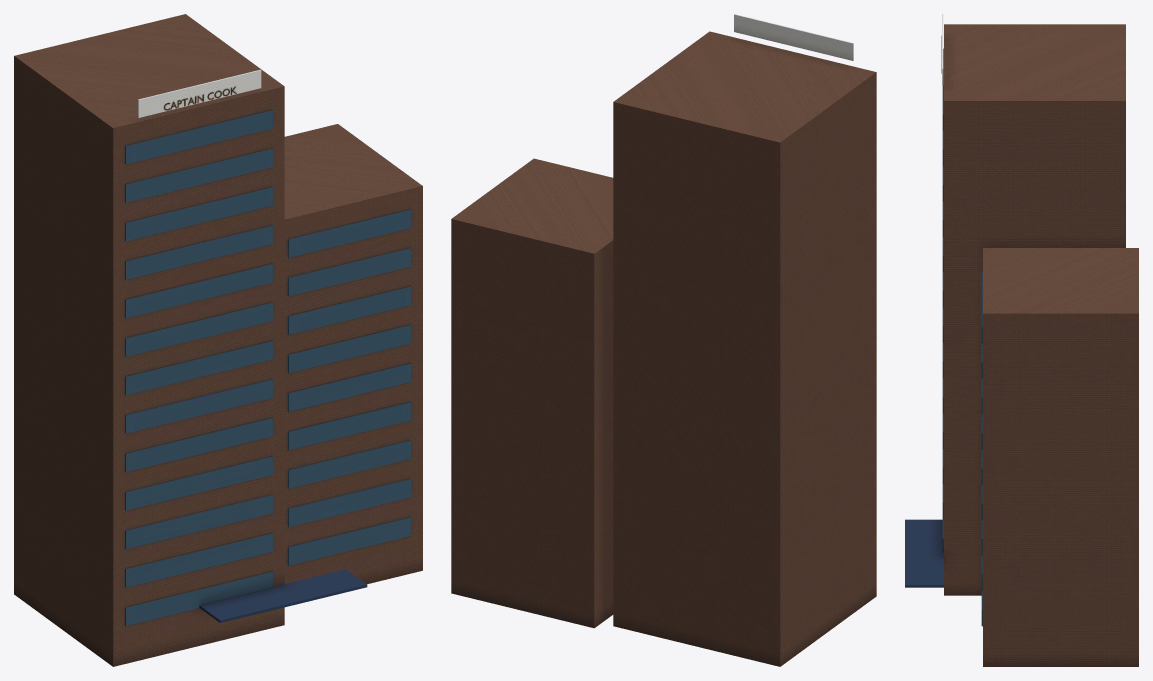
Rendered from hotel_captain_cook.glb.
3 renders of one model, left to right at view 1: azimuth 30°, elevation 25°; view 2: azimuth 150°, elevation 25°; view 3: azimuth 270°, elevation 25°, orthographic. The views are drawn at different scales.
Visible parts, largest first — view 1: hotel_captain_cook; view 2: hotel_captain_cook; view 3: hotel_captain_cook.
Boxes of the visible parts, left/top/right/bottom form: hotel_captain_cook: left=14, top=14, right=422, bottom=666; hotel_captain_cook: left=451, top=14, right=876, bottom=666; hotel_captain_cook: left=905, top=14, right=1138, bottom=666.
Size of the model in its own units: 27 by 43.8 by 18.
1 material, 1 textured.
